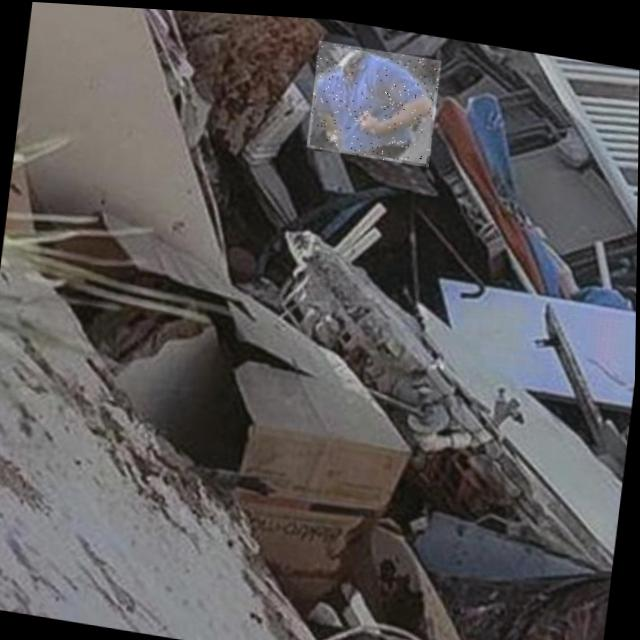Person in Rubble: (306, 36, 441, 162)
